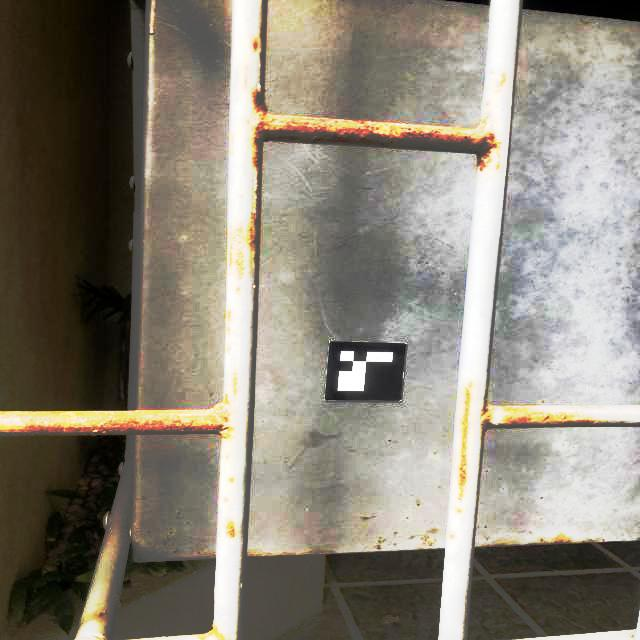Corrosion: (227, 63, 505, 299), (0, 367, 239, 441), (74, 440, 130, 640), (480, 393, 605, 439), (453, 378, 478, 503), (192, 616, 229, 640), (492, 69, 510, 92), (248, 32, 262, 57), (224, 518, 240, 539), (542, 537, 575, 545), (224, 309, 232, 338), (448, 531, 456, 544), (226, 475, 236, 484), (456, 505, 464, 516), (222, 495, 230, 503)
